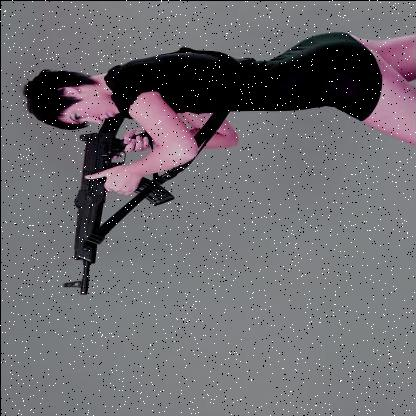rifle: (57, 107, 175, 295)
